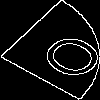O: (25, 25, 100, 84)
